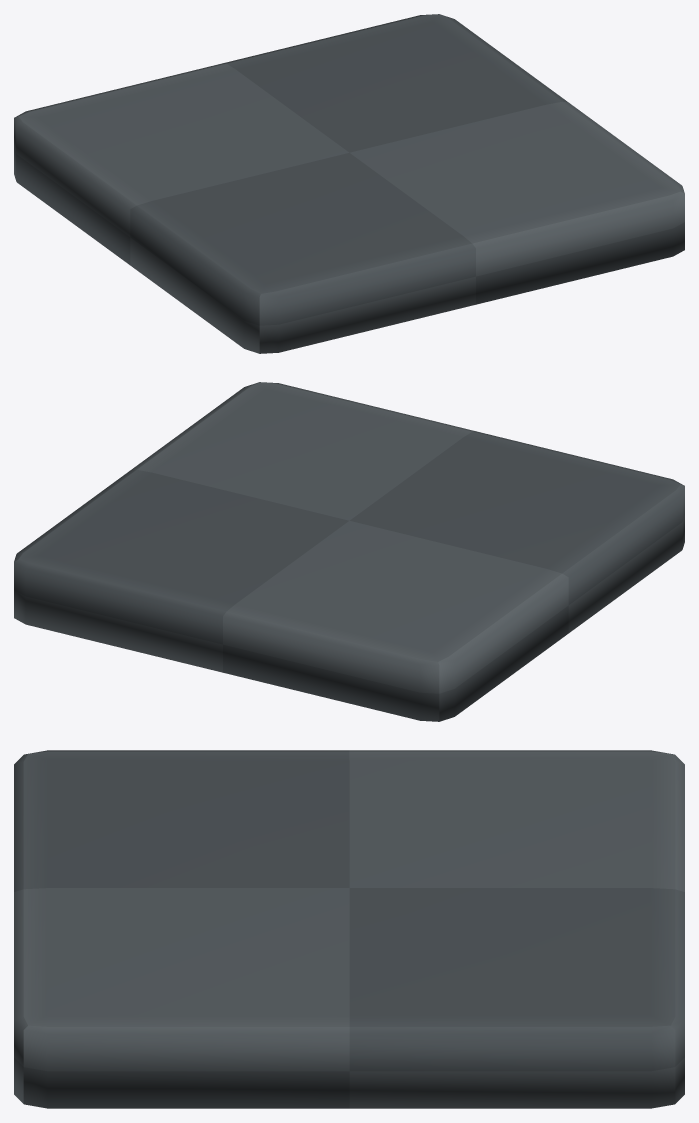
Rendered from platform.glb.
The picture shows the model from 3 angles, top to bottom: view 1: azimuth 30°, elevation 25°; view 2: azimuth 150°, elevation 25°; view 3: azimuth 270°, elevation 25°; orthographic projection. The views are drawn at different scales.
Visible parts, largest first — view 1: prototype; view 2: prototype; view 3: prototype.
Part boxes in pixels (x1,y1,x2,y2): prototype: (14, 14, 684, 353); prototype: (14, 382, 684, 721); prototype: (14, 750, 684, 1108).
Bounding box in the file's own units: 3.01 × 0.4099 × 3.01.
1 material, 1 textured.
